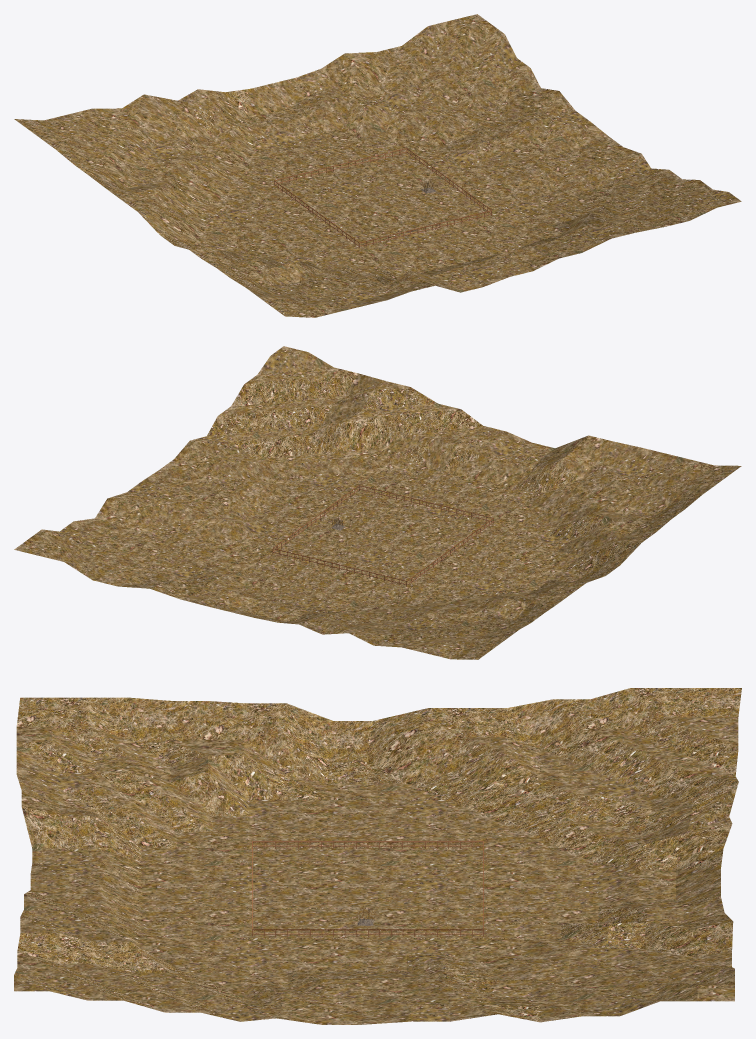
Rendered from FarmerFight.fbx.
The picture shows the model from 3 angles, top to bottom: view 1: azimuth 30°, elevation 25°; view 2: azimuth 150°, elevation 25°; view 3: azimuth 270°, elevation 25°; orthographic projection. The views are drawn at different scales.
Visible parts, largest first — view 1: Plane; view 2: Plane; view 3: Plane, Cube.001, Cube.018.
Part boxes in pixels (x1,y1,x2,y2): Plane: [14, 14, 741, 317]; Plane: [14, 346, 741, 659]; Plane: [14, 688, 741, 1024]; Cube.001: [252, 841, 482, 848]; Cube.018: [253, 929, 483, 936].
Bounding box in the file's own units: 58649 × 7974 × 59065.
4 materials, 4 textured.
